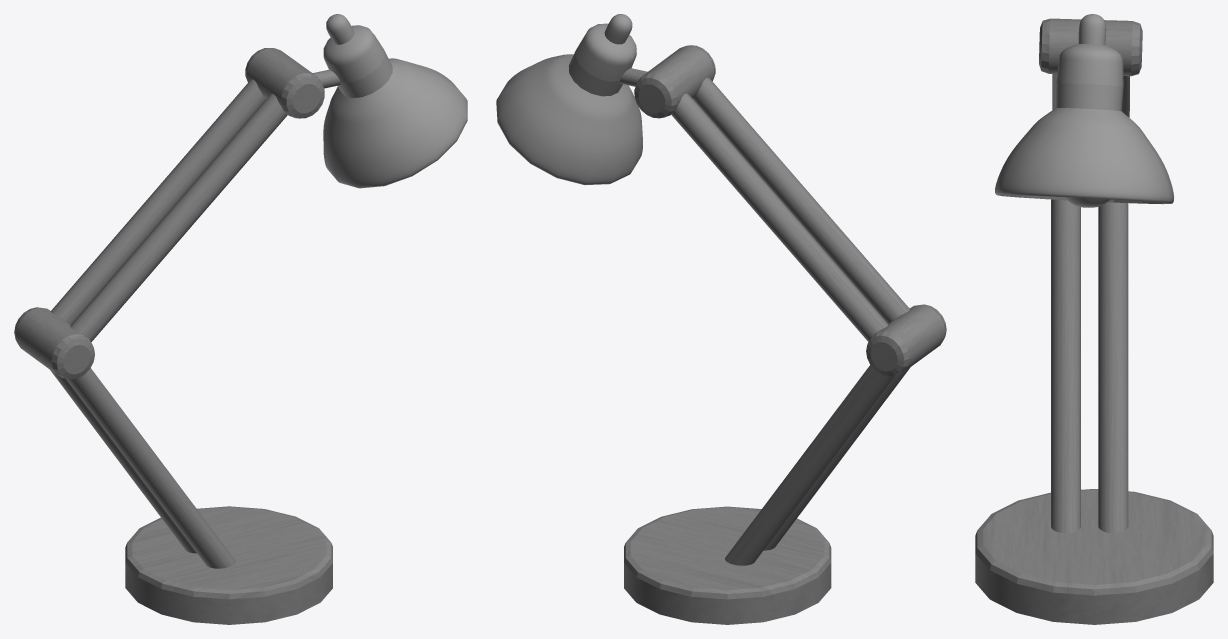
The model's file is desktop light.FBX.
The picture shows the model from 3 angles, left to right: view 1: azimuth 30°, elevation 25°; view 2: azimuth 150°, elevation 25°; view 3: azimuth 270°, elevation 25°; orthographic projection. The views are drawn at different scales.
Parts seen in each view (by area): view 1: Cylinder001, Line003, Cylinder005, Cylinder006, Cylinder002, Cylinder003, Cylinder007, Cylinder004; view 2: Cylinder001, Line003, Cylinder006, Cylinder005, Cylinder004, Cylinder003, Cylinder007, Cylinder002; view 3: Cylinder001, Line003, Cylinder004, Cylinder002, Cylinder007, Line004.
Boxes of the visible parts, box(x1,y1,x2,y2) form: Cylinder001: box(125, 506, 332, 624); Line003: box(323, 14, 467, 188); Cylinder005: box(70, 94, 287, 342); Cylinder006: box(51, 79, 265, 324); Cylinder002: box(66, 368, 235, 568); Cylinder003: box(14, 307, 94, 379); Cylinder007: box(245, 48, 324, 118); Cylinder004: box(50, 370, 196, 553); Cylinder001: box(624, 506, 831, 624); Line003: box(496, 14, 642, 185); Cylinder006: box(671, 93, 887, 341); Cylinder005: box(693, 78, 909, 323); Cylinder004: box(725, 365, 894, 565); Cylinder003: box(866, 304, 946, 376); Cylinder007: box(634, 45, 715, 118); Cylinder002: box(763, 367, 910, 550); Cylinder001: box(975, 489, 1213, 624); Line003: box(995, 14, 1174, 204); Cylinder004: box(1098, 202, 1128, 533); Cylinder002: box(1051, 199, 1080, 533); Cylinder007: box(1039, 18, 1142, 76); Line004: box(1063, 197, 1110, 207).
Size of the model in its own units: 27.77 by 33.87 by 11.82.
5 materials, 1 textured.
